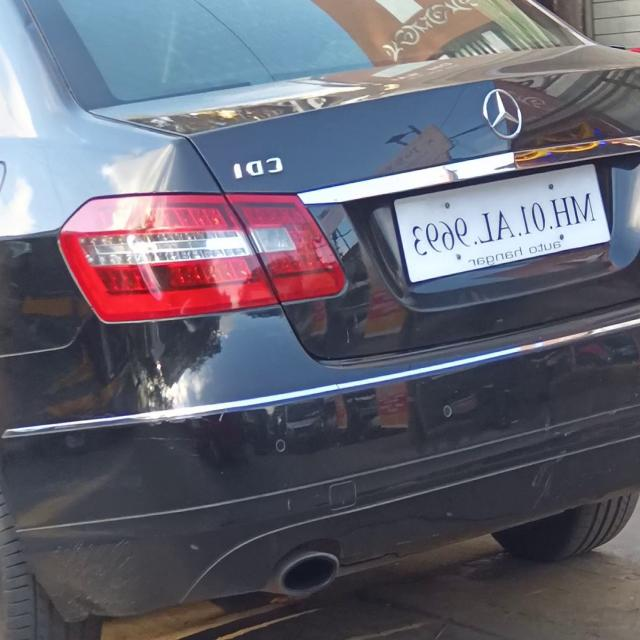license_plate: (385, 146, 622, 300)
